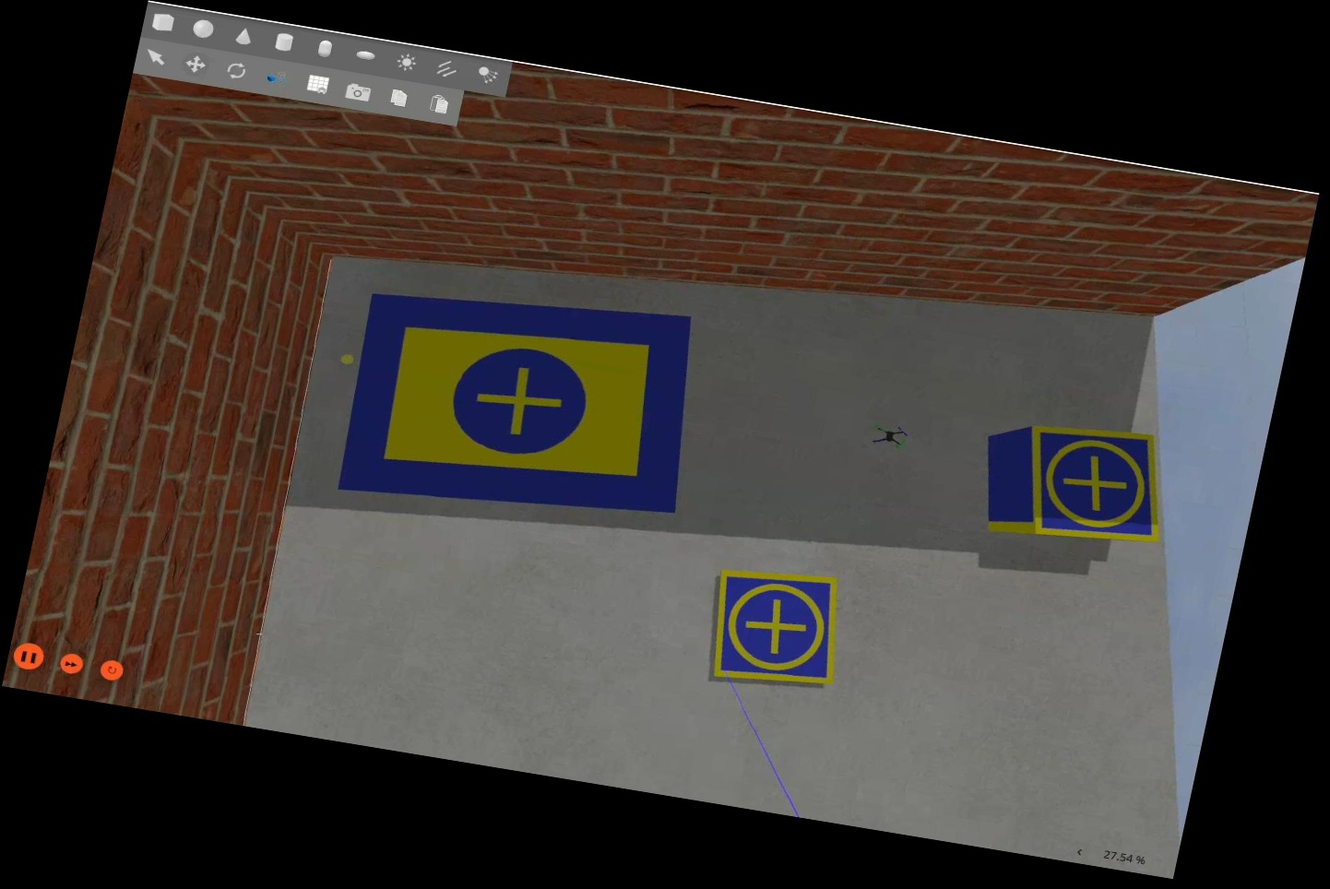large_base: (323, 264, 719, 547)
small_base: (1003, 415, 1184, 559), (697, 559, 854, 699)
